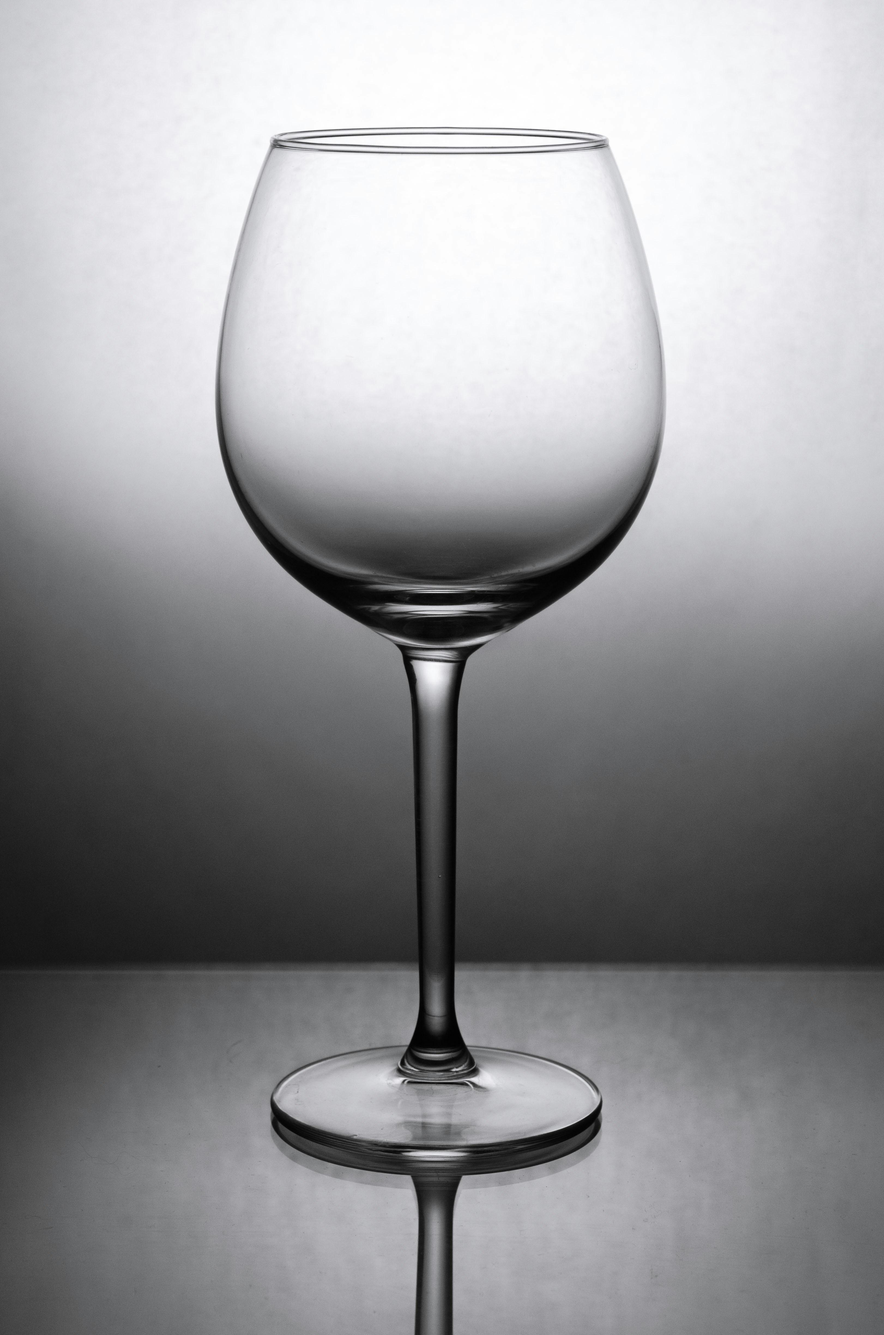glass: (36, 8, 128, 124)
